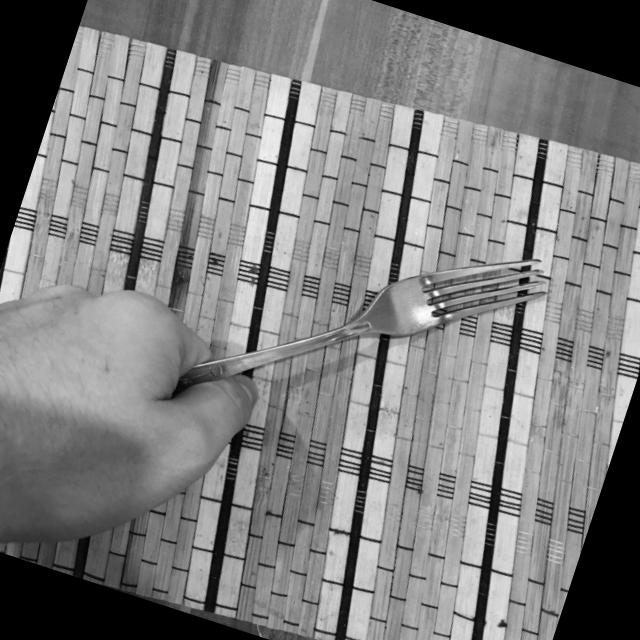fork: (146, 157, 556, 505)
